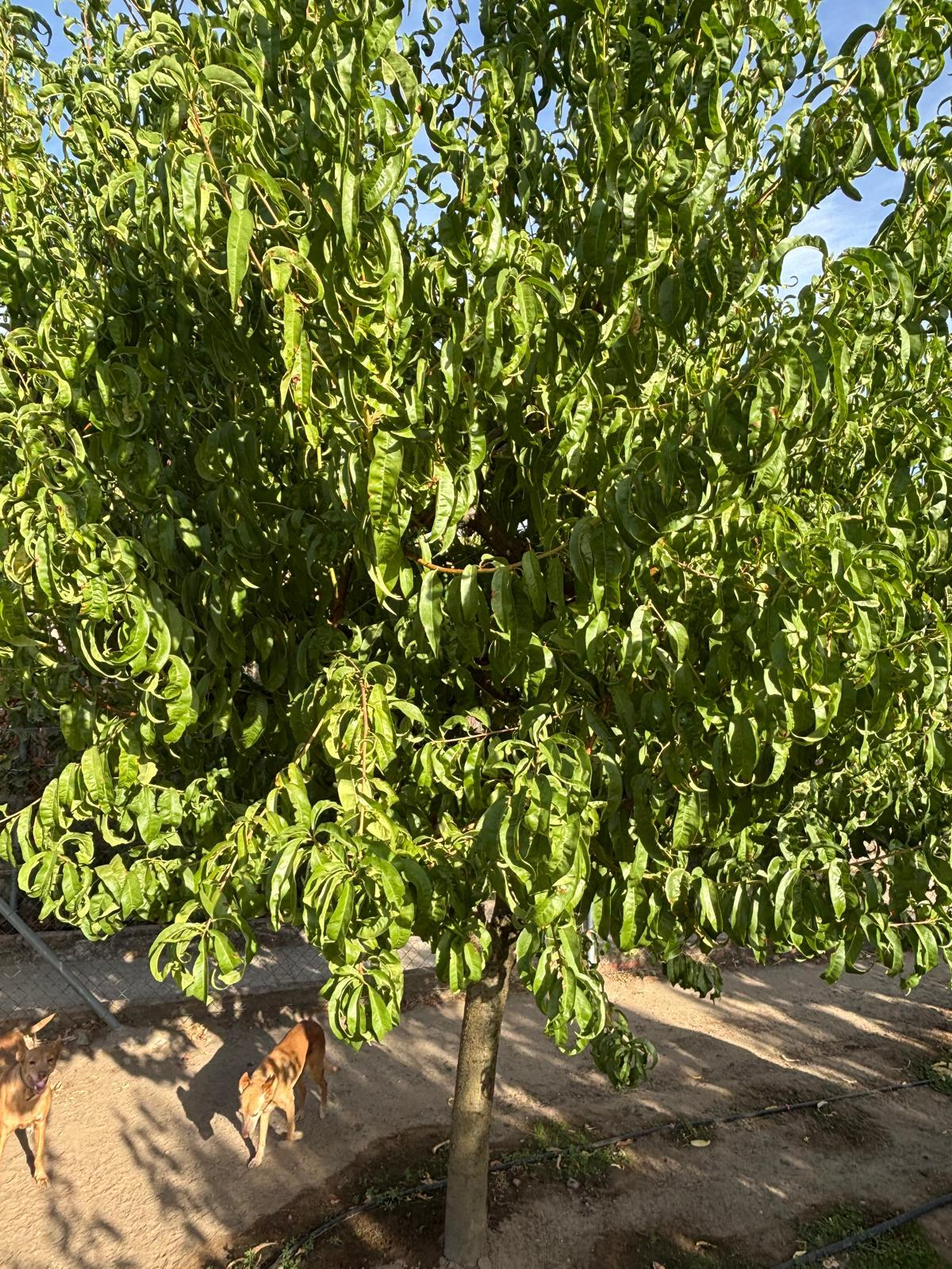nectarino: (11, 19, 937, 1269)
